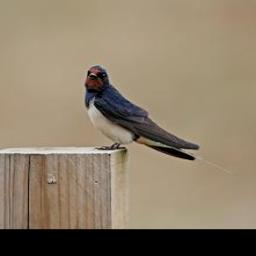Swallow: (82, 61, 236, 175)
